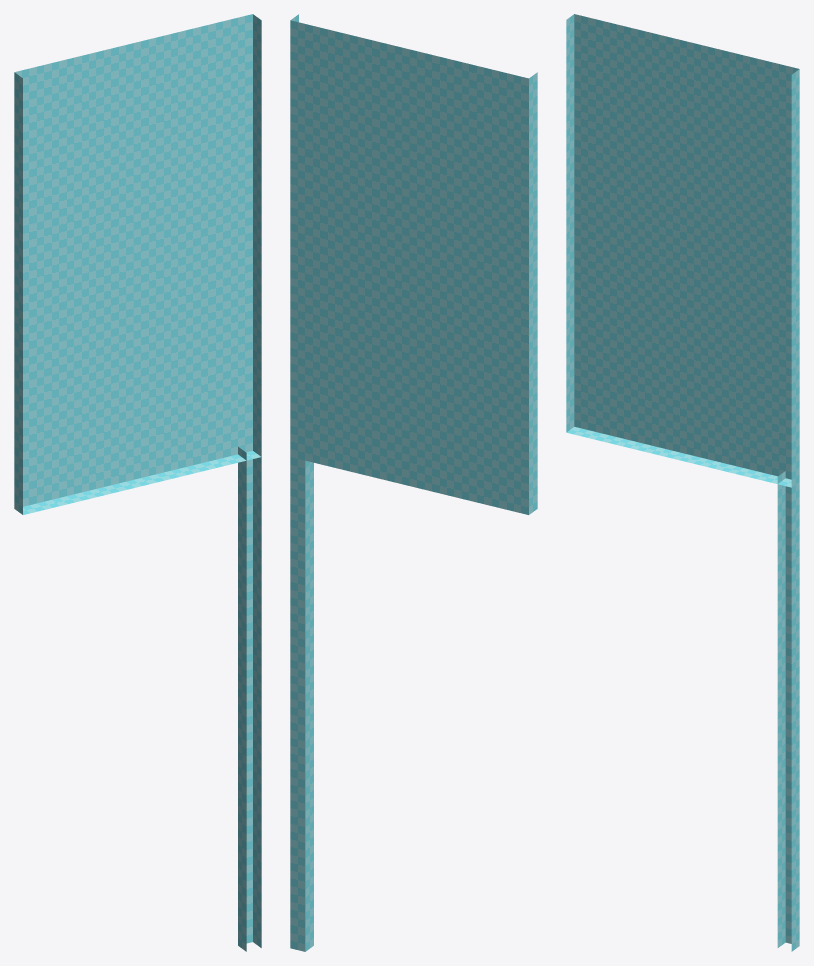
The model's file is Restraunt Wall Doorway.obj.
3 renders of one model, left to right at view 1: azimuth 30°, elevation 25°; view 2: azimuth 150°, elevation 25°; view 3: azimuth 330°, elevation 25°, orthographic. The views are drawn at different scales.
Visible parts, largest first — view 1: upper, cube; view 2: upper, cube; view 3: upper, cube.
Part boxes in pixels (x1,y1,x2,y2): upper: [14, 14, 261, 514]; cube: [238, 443, 261, 951]; upper: [290, 14, 537, 514]; cube: [290, 449, 313, 951]; upper: [566, 14, 799, 487]; cube: [777, 471, 799, 951].
Size of the model in its own units: 2 by 7.44 by 0.125.
1 material, 1 textured.
